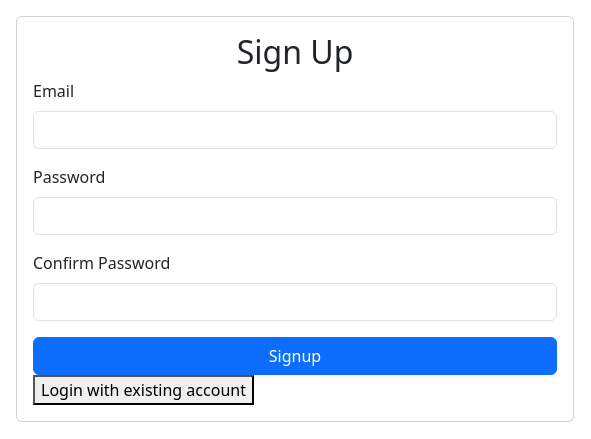
Test case: does not render confirm password input field when in login mode
This screenshot has width=591, height=439.
Step 1. Click the button "Login with existing account" → click(143, 390), box [33,375,254,405]
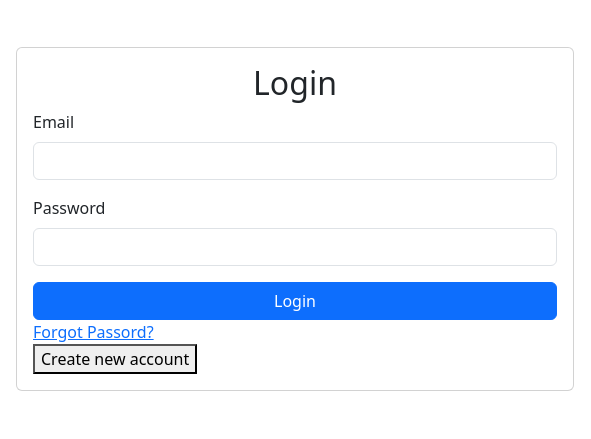
Expected: the label labelled "Confirm Password" is gone
